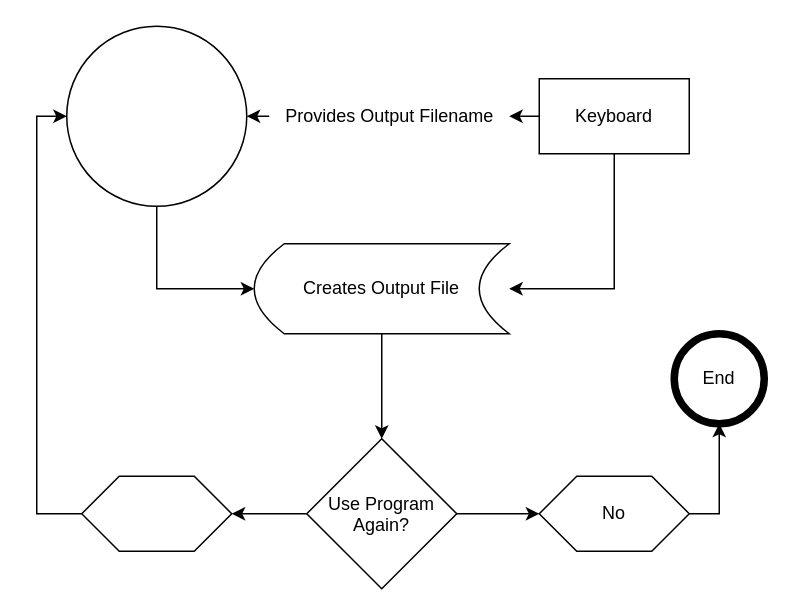
Some shapes in this 794 by 615 pixel diagram are drawn without their labels. Here are the shapes that lost their labels. From the top down, the centre of each, then its label:
(x=156, y=115): Text to Speech
(x=156, y=513): Yes
